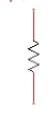resistor: (22, 35, 47, 79)
